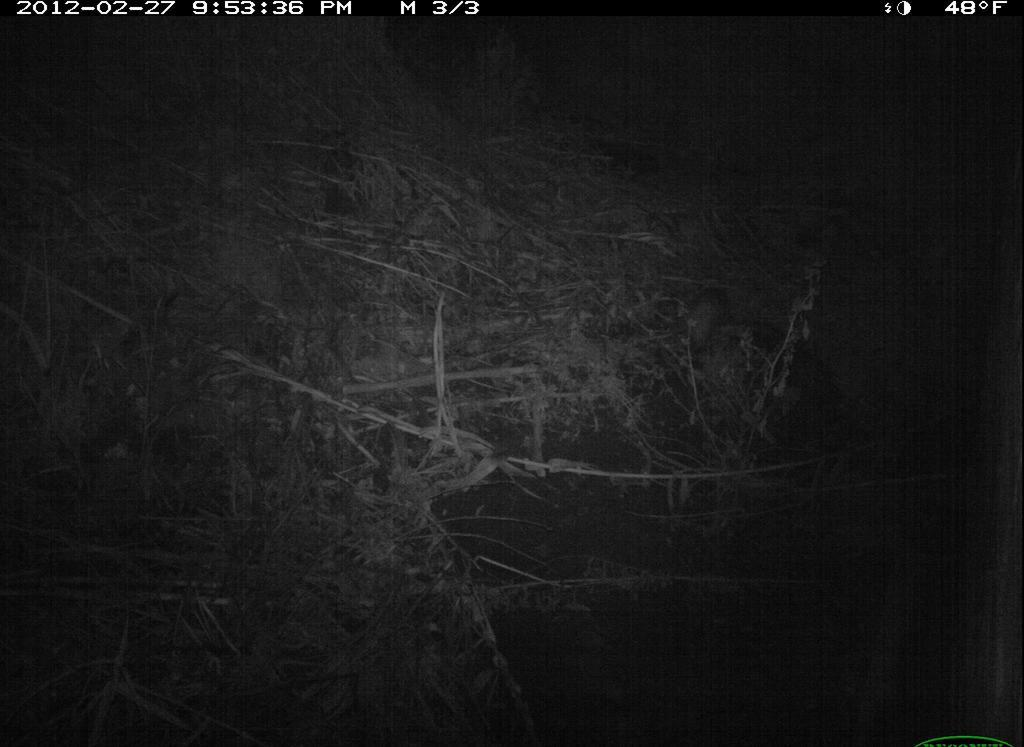opossum: (657, 276, 738, 362)
